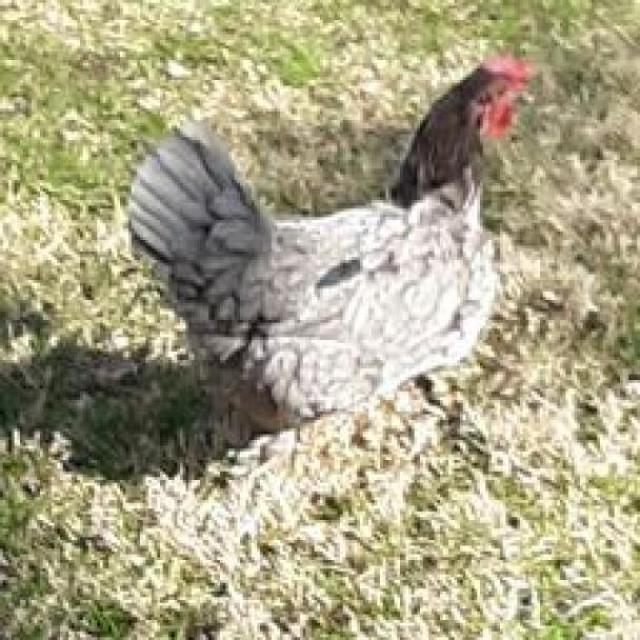Chicken: (111, 38, 577, 482)
